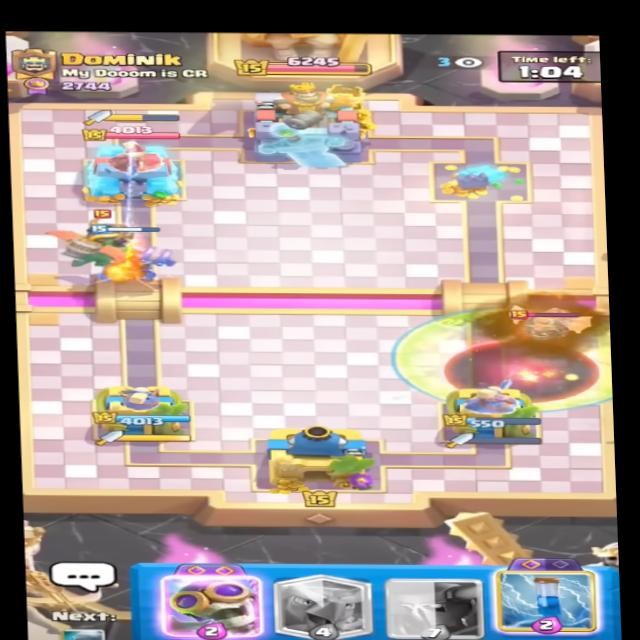inferno-dragon: (53, 216, 146, 265)
lava-hound: (492, 300, 596, 343)
